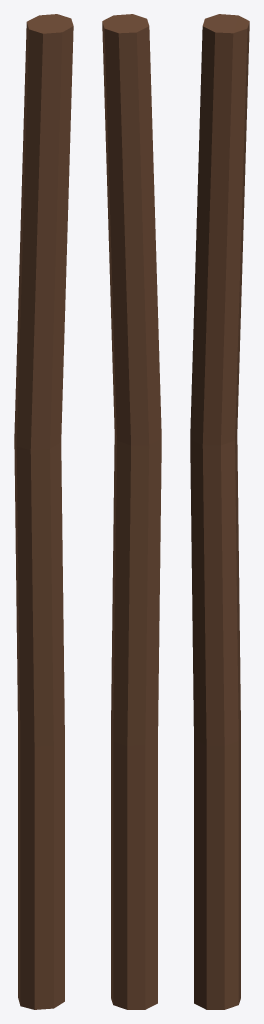
Rendered from spear_broken_part_2.glb.
3 views of the same model, side by side, from view 1: azimuth 30°, elevation 25°; view 2: azimuth 210°, elevation 25°; view 3: azimuth 330°, elevation 25° (orthographic).
Parts seen in each view (by area): view 1: Spear_part_2; view 2: Spear_part_2; view 3: Spear_part_2.
Part boxes in pixels (x1,y1,x2,y2): Spear_part_2: (14,14,73,1009); Spear_part_2: (102,14,161,1009); Spear_part_2: (190,14,249,1009).
Size of the model in its own units: 0.2707 by 4.62 by 0.1994.
